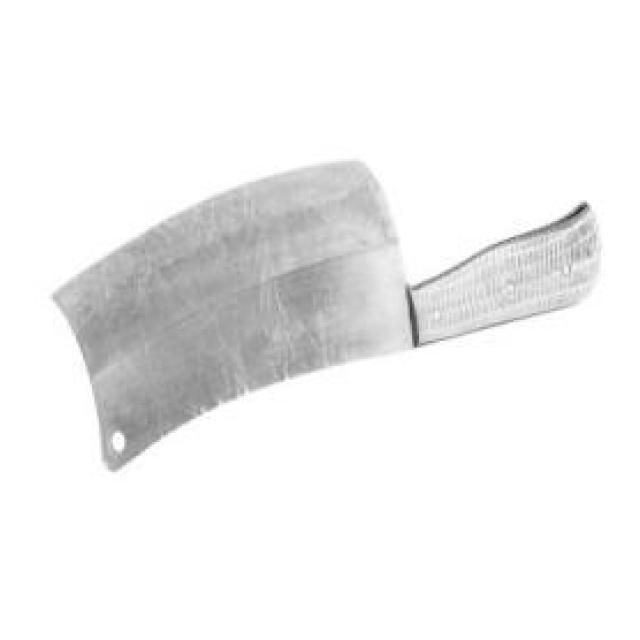knife: (51, 156, 602, 472)
